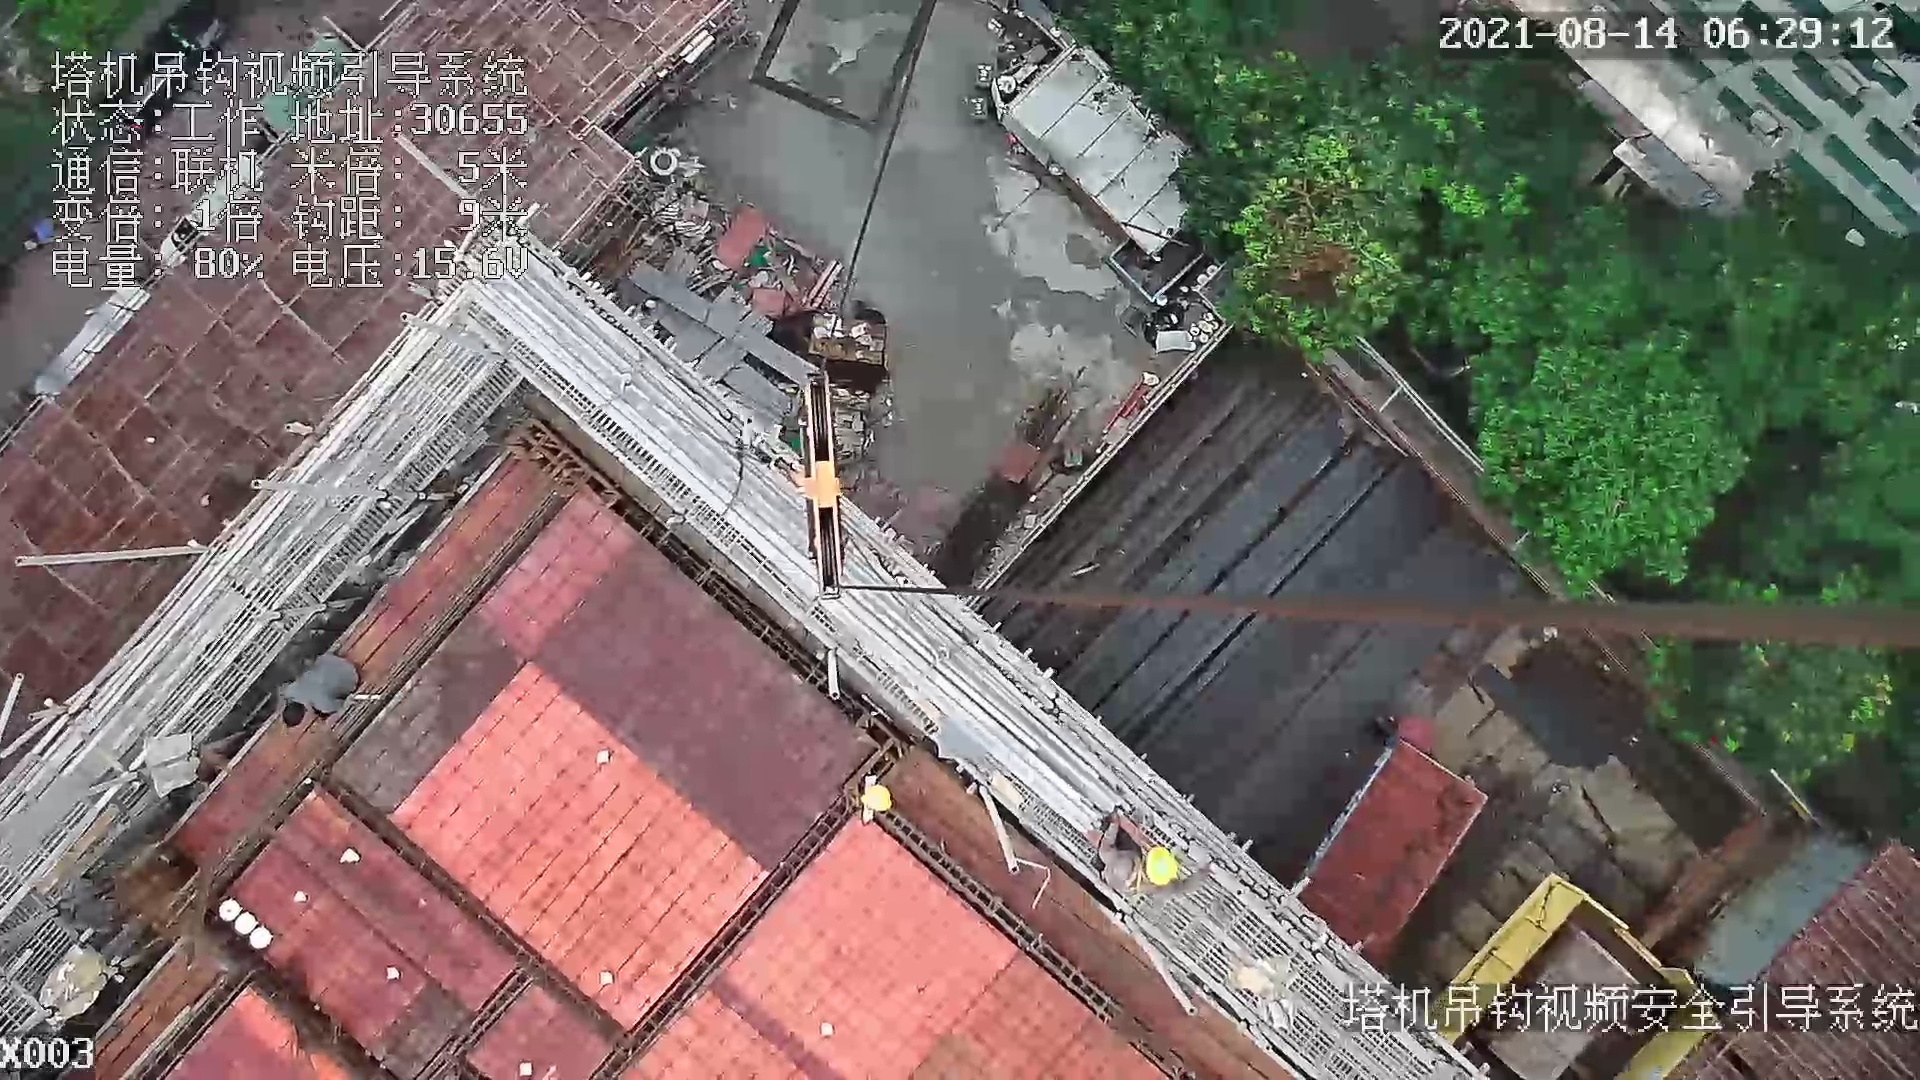helmet: (1140, 847, 1187, 890), (858, 780, 900, 818)
hook: (797, 369, 844, 603)
person: (1081, 806, 1220, 906)
rebar: (1012, 400, 1492, 776)
